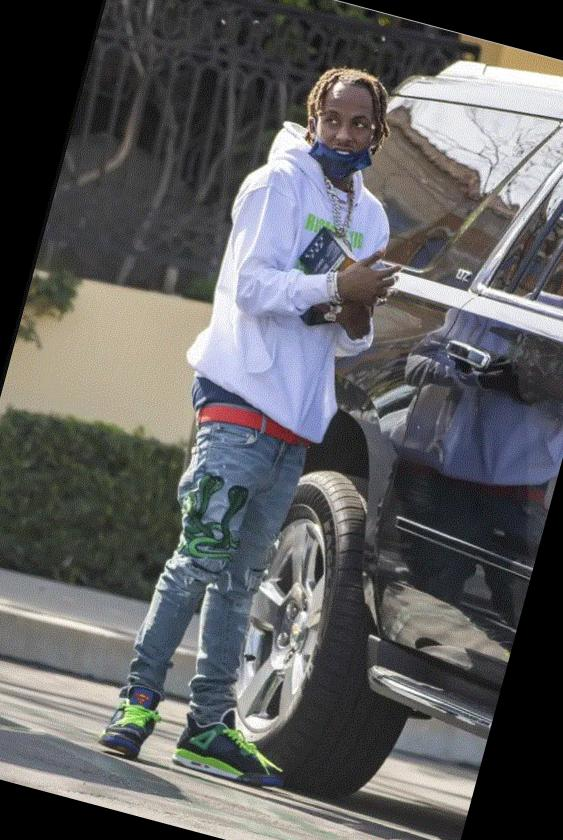mask_weared_incorrect: (309, 93, 381, 180)
